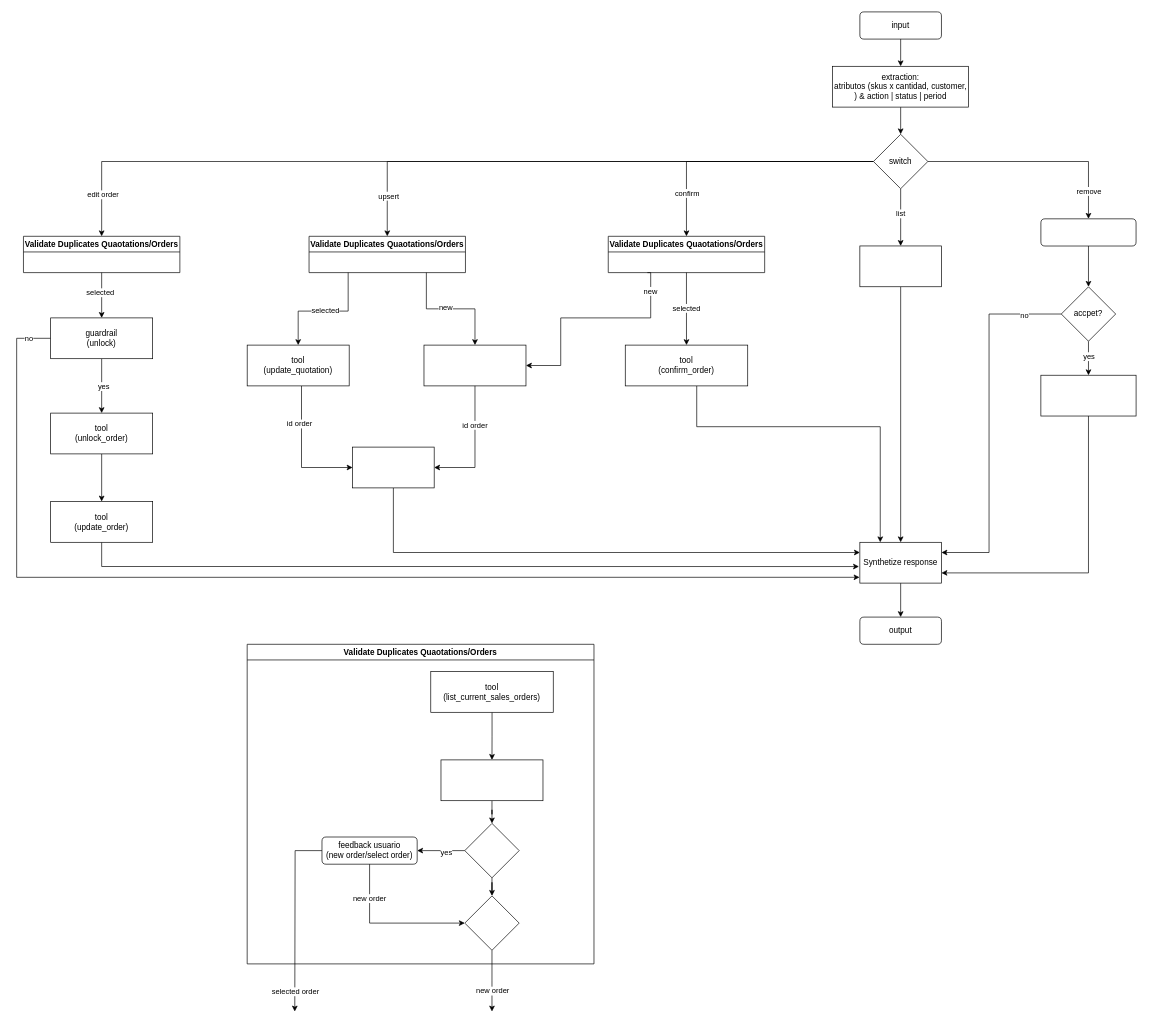
This 1149x1029 diagram has some shape labels left out. Here are the shapes that lost their labels. From the top down, the centre of each, then its label:
(x=1088, y=232): feedback user
(x=900, y=266): tool (list_sales_orders) group by status
(x=474, y=365): tool (create_quoatation)
(x=1088, y=395): tool (remove_sale_order)
(x=393, y=467): tool (view_quotation)
(x=491, y=780): duplicate candidates (llm as judge)
(x=491, y=850): Posible candidates?
(x=491, y=922): or
